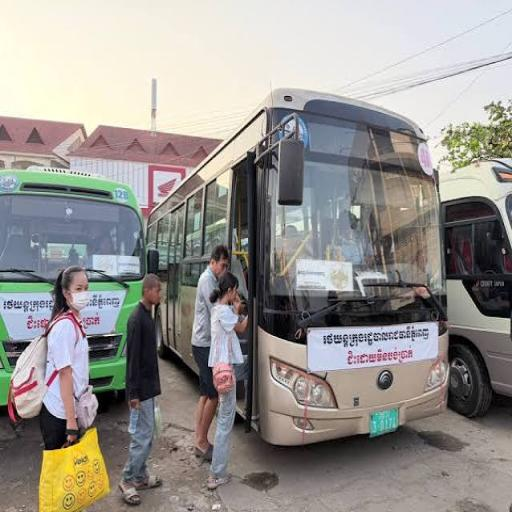Plate Number: (372, 407, 399, 439)
